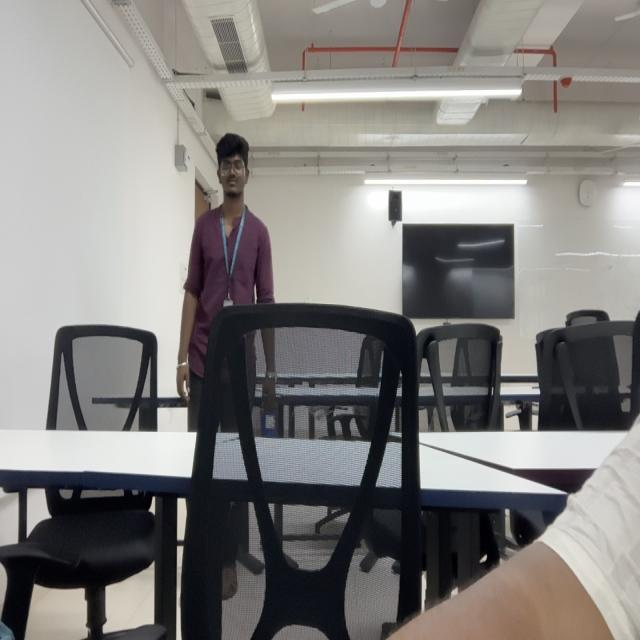ravindra: (215, 132, 251, 202)
